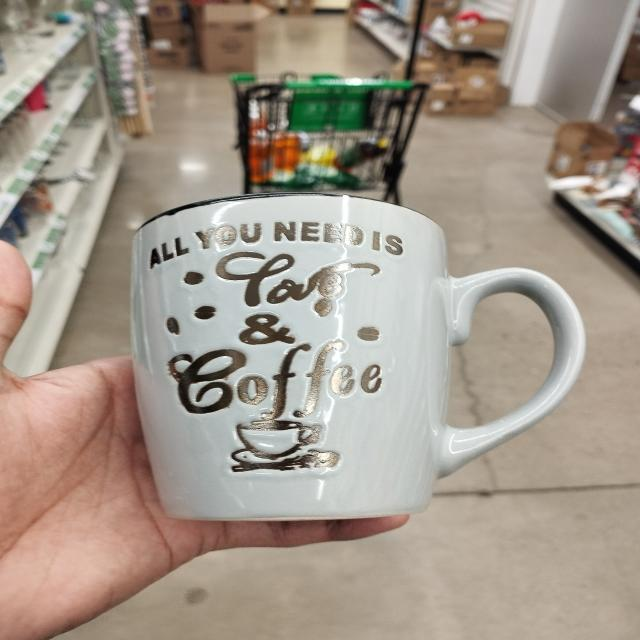Cup: (101, 195, 596, 533)
